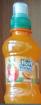orange: (2, 2, 41, 104)
